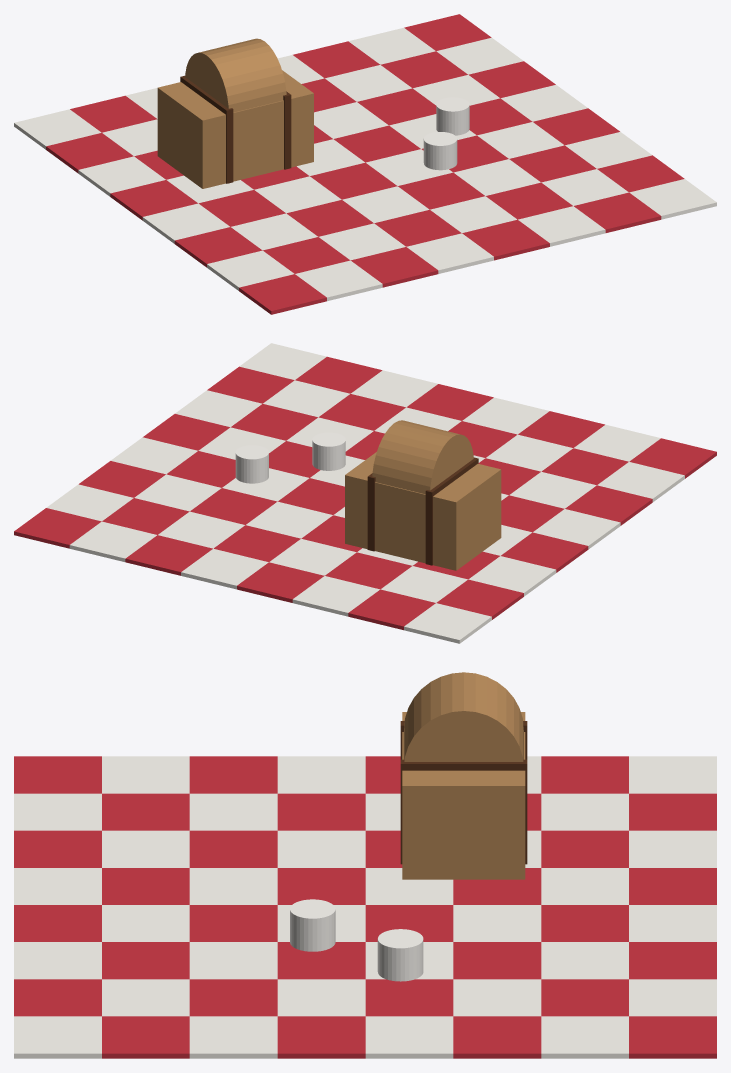
Rendered from picnic-blanket.glb.
3 views of the same model, one above another, from view 1: azimuth 30°, elevation 25°; view 2: azimuth 150°, elevation 25°; view 3: azimuth 270°, elevation 25° (orthographic). The views are drawn at different scales.
Parts seen in each view (by area): view 1: Cube.064, Cylinder, Cube, Cube.016, Cube.048, Cube.008, Cube.024, Cube.056, Cube.032, Cube.040, Cube.003, Cube.006 (+53 smaller); view 2: Cube.064, Cylinder, Cube.007, Cube.023, Cube.055, Cube.015, Cube.031, Cube.063, Cube.039, Cube.047, Cube.001, Cube.004 (+52 smaller); view 3: Cube.064, Cylinder, Cube.058, Cube.059, Cube.060, Cube.061, Cube.056, Cube.057, Cube.062, Cube.063, Cube.002, Cube.003 (+54 smaller).
Part boxes in pixels (x1=…): Cube.064: x1=157, y1=70, x2=313, y2=188; Cylinder: x1=185, y1=38, x2=286, y2=112; Cube: x1=239, y1=274, x2=326, y2=314; Cube.016: x1=351, y1=247, x2=438, y2=287; Cube.048: x1=574, y1=192, x2=661, y2=232; Cube.008: x1=295, y1=260, x2=382, y2=301; Cube.024: x1=406, y1=233, x2=493, y2=273; Cube.056: x1=629, y1=179, x2=716, y2=219; Cube.032: x1=462, y1=219, x2=549, y2=260; Cube.040: x1=518, y1=206, x2=605, y2=246; Cube.003: x1=142, y1=203, x2=229, y2=243; Cube.006: x1=46, y1=133, x2=133, y2=173; Cube.064: x1=345, y1=452, x2=501, y2=570; Cylinder: x1=372, y1=420, x2=473, y2=494; Cube.007: x1=404, y1=603, x2=491, y2=643; Cube.023: x1=292, y1=576, x2=379, y2=616; Cube.055: x1=69, y1=521, x2=156, y2=561; Cube.015: x1=348, y1=589, x2=435, y2=630; Cube.031: x1=237, y1=562, x2=324, y2=602; Cube.063: x1=14, y1=508, x2=101, y2=548; Cube.039: x1=181, y1=548, x2=268, y2=589; Cube.047: x1=125, y1=535, x2=212, y2=575; Cube.001: x1=597, y1=462, x2=684, y2=502; Cube.004: x1=501, y1=532, x2=588, y2=572; Cube.064: x1=402, y1=712, x2=525, y2=879; Cylinder: x1=403, y1=672, x2=523, y2=761; Cube.058: x1=189, y1=1016, x2=277, y2=1058; Cube.059: x1=277, y1=1016, x2=365, y2=1058; Cube.060: x1=365, y1=1016, x2=453, y2=1058; Cube.061: x1=453, y1=1016, x2=541, y2=1058; Cube.056: x1=14, y1=1016, x2=101, y2=1058; Cube.057: x1=102, y1=1016, x2=189, y2=1058; Cube.062: x1=541, y1=1016, x2=628, y2=1058; Cube.063: x1=629, y1=1016, x2=716, y2=1058; Cube.002: x1=189, y1=756, x2=277, y2=793; Cube.003: x1=277, y1=756, x2=365, y2=793.
Size of the model in its own units: 2 by 0.49 by 2.
